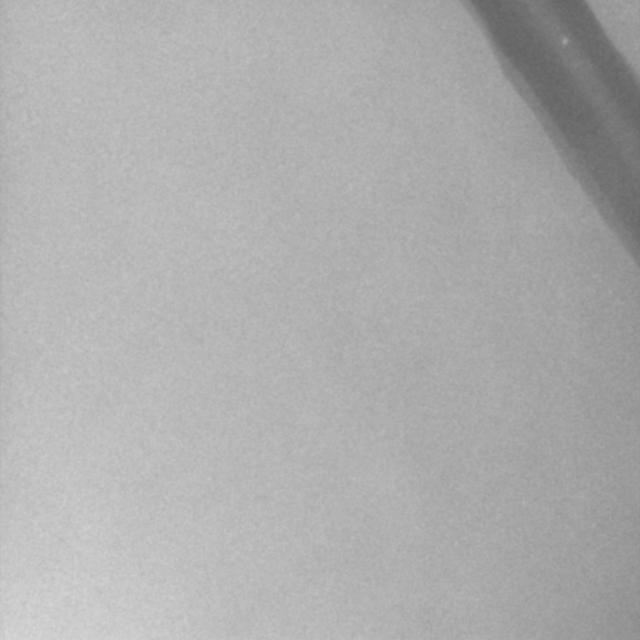air hole: (559, 34, 569, 48)
